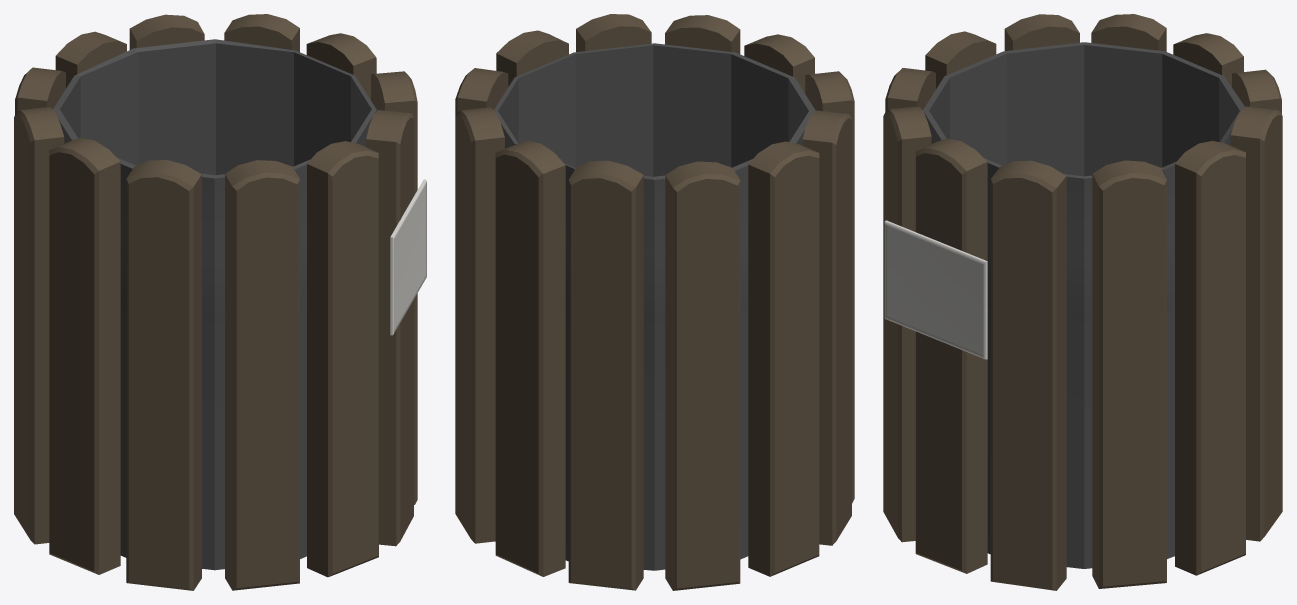
Rendered from binwooden.fbx.
3 views of the same model, side by side, from view 1: azimuth 30°, elevation 25°; view 2: azimuth 150°, elevation 25°; view 3: azimuth 270°, elevation 25° (orthographic).
Parts seen in each view (by area): view 1: bin_wooden; view 2: bin_wooden; view 3: bin_wooden.
Boxes of the visible parts, left/top/right/bottom form: bin_wooden: left=14, top=14, right=426, bottom=590; bin_wooden: left=455, top=14, right=854, bottom=590; bin_wooden: left=883, top=14, right=1282, bottom=590.
Bounding box in the file's own units: 1820 × 2064 × 1808.
